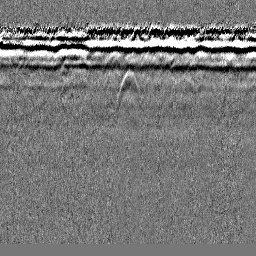cavity: (115, 67, 142, 117)
